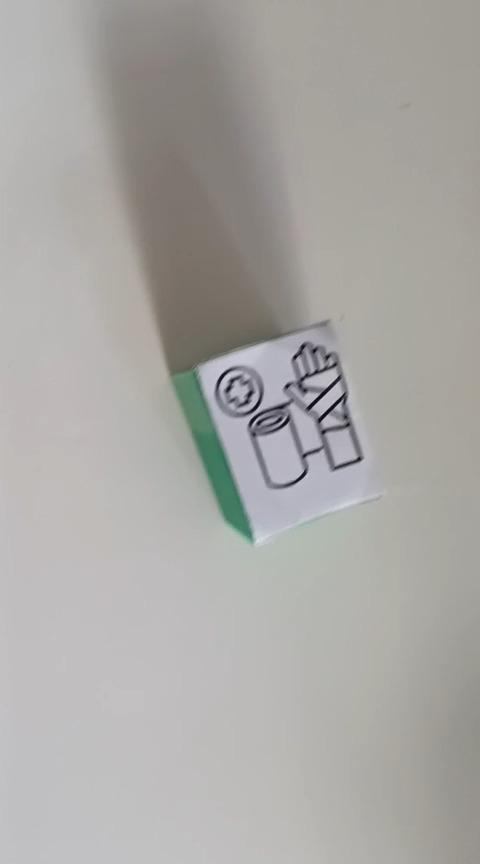Bandages: (168, 317, 384, 547)
